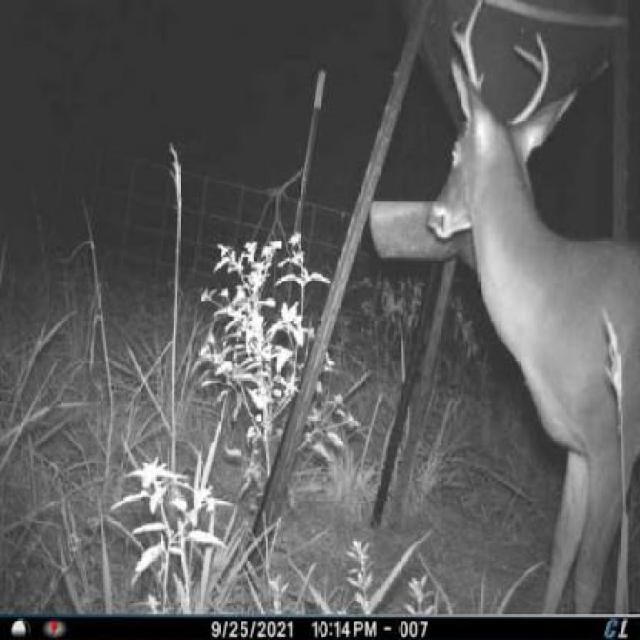Deer: (424, 0, 638, 612)
